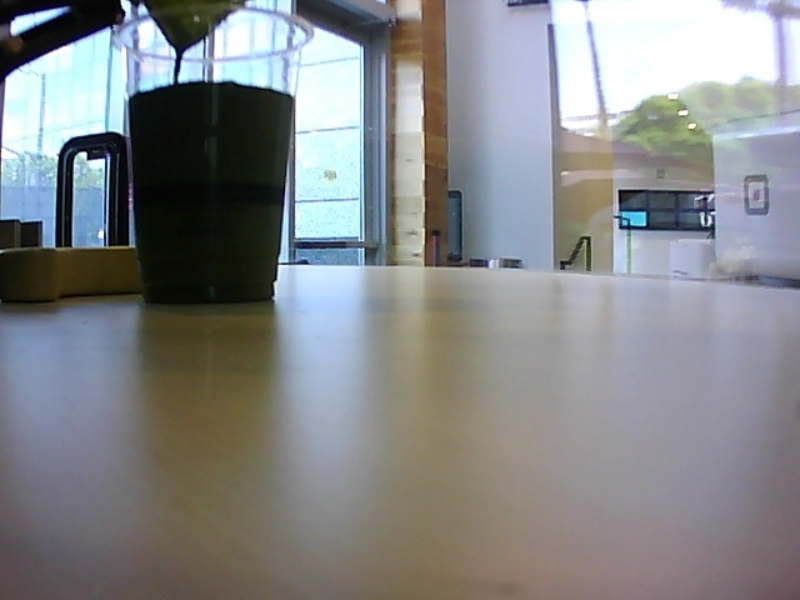cup: (108, 5, 315, 311)
limit: (126, 71, 297, 109)
